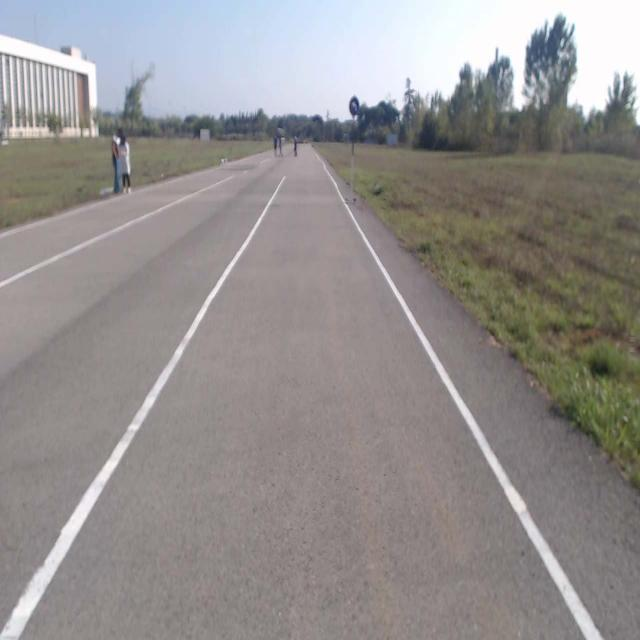sol: (350, 95, 360, 117)
